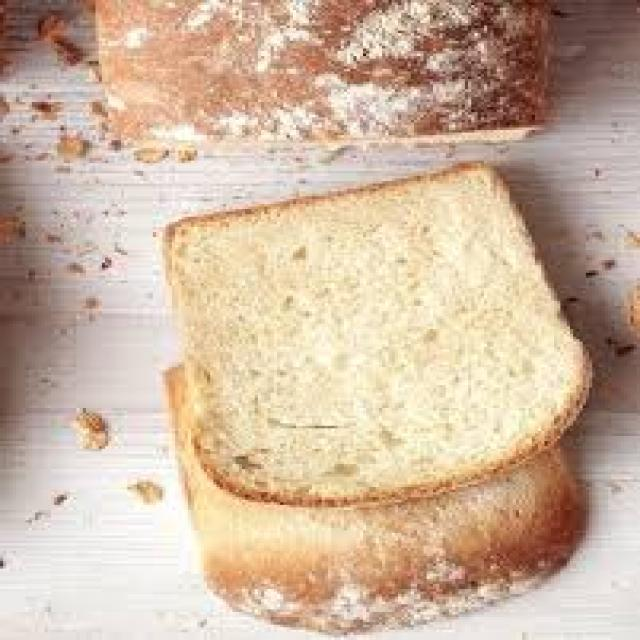Bread: (169, 164, 584, 503), (177, 413, 584, 632)
